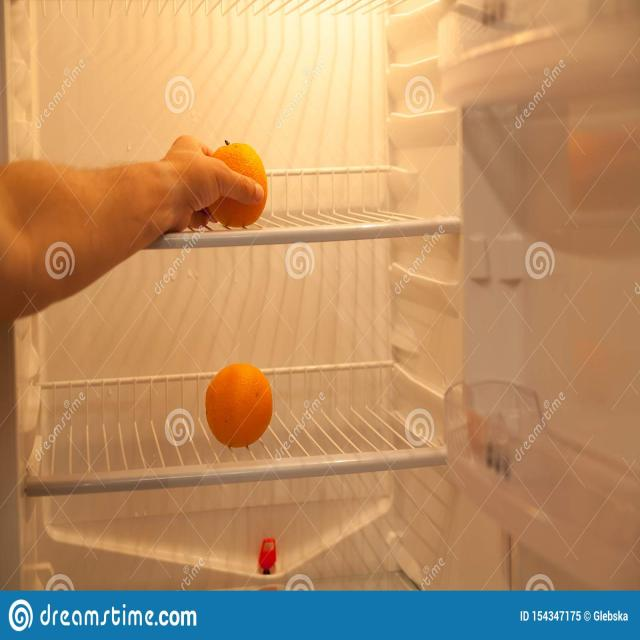orange: (204, 353, 274, 449), (206, 136, 268, 228)
